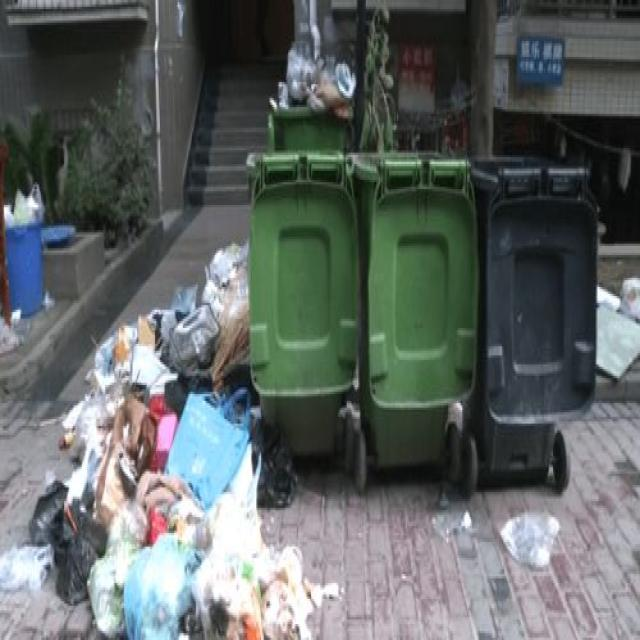garbage: (0, 237, 337, 638), (595, 273, 639, 378), (499, 508, 558, 567)
garbage_bin: (349, 148, 479, 467), (469, 152, 595, 474)
overflow: (247, 41, 361, 458), (0, 180, 45, 312)
